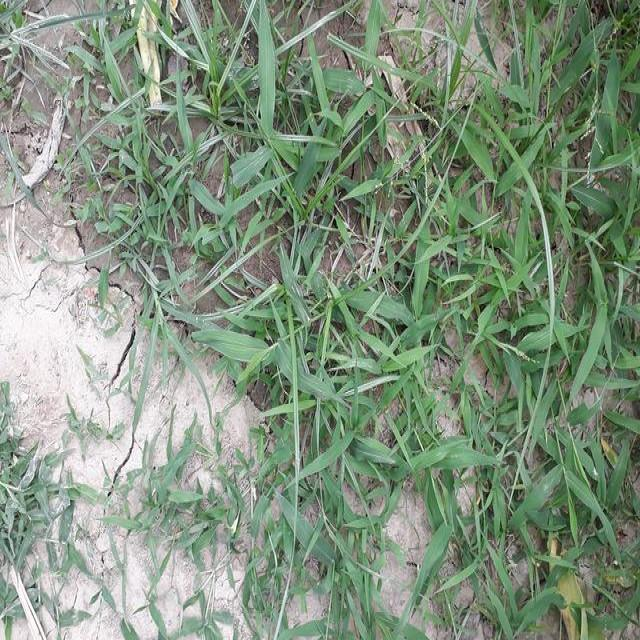weed: (468, 39, 640, 640), (252, 261, 469, 640), (132, 23, 412, 233)
